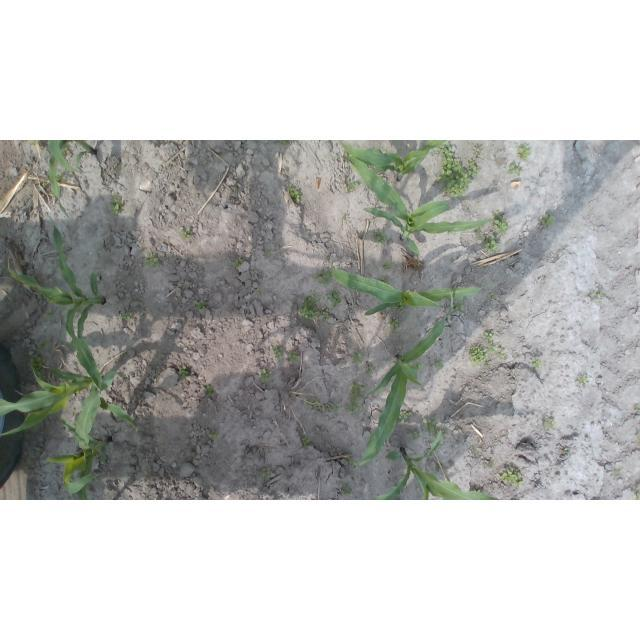Maize: (351, 289, 452, 465), (6, 226, 107, 392), (341, 153, 496, 255), (0, 365, 140, 437), (371, 429, 502, 500), (329, 262, 483, 315), (40, 416, 112, 500), (46, 140, 97, 220), (340, 140, 449, 176)
Weeds: (434, 141, 482, 198), (344, 381, 365, 412), (298, 293, 322, 319), (28, 355, 49, 381), (499, 468, 523, 488), (468, 346, 488, 367), (480, 235, 500, 254), (492, 212, 509, 233), (313, 268, 332, 285), (424, 416, 439, 437), (111, 193, 124, 216), (144, 252, 161, 268), (517, 142, 531, 160), (287, 187, 301, 205), (272, 345, 285, 364), (328, 289, 341, 308), (340, 179, 358, 192), (372, 229, 387, 244), (507, 162, 522, 176), (396, 411, 413, 423), (304, 398, 321, 409), (258, 369, 272, 382), (324, 403, 341, 413), (452, 300, 465, 313), (388, 319, 401, 332), (576, 376, 589, 389), (542, 213, 554, 227), (532, 355, 544, 369), (178, 366, 189, 381), (288, 352, 301, 364), (543, 415, 554, 429), (590, 290, 607, 299), (55, 170, 67, 182), (352, 351, 363, 363), (484, 331, 495, 343), (431, 359, 444, 369), (180, 228, 191, 239), (203, 385, 213, 397), (343, 484, 353, 496), (410, 428, 420, 440), (43, 311, 53, 321), (121, 312, 131, 321), (195, 300, 205, 309), (262, 467, 271, 477), (303, 436, 312, 446), (634, 486, 640, 500), (232, 259, 244, 266), (322, 307, 329, 319), (364, 368, 373, 377), (264, 248, 273, 257), (40, 340, 49, 349), (498, 349, 505, 360), (384, 260, 393, 268), (379, 276, 388, 284), (61, 146, 70, 154), (209, 432, 217, 441), (488, 344, 496, 352), (488, 293, 497, 299), (278, 140, 288, 145), (616, 467, 624, 473), (468, 488, 480, 492), (256, 288, 265, 293), (68, 380, 77, 384), (448, 231, 456, 235), (476, 229, 481, 235), (562, 449, 568, 453), (29, 141, 36, 144), (436, 466, 441, 470), (488, 464, 492, 468), (638, 434, 640, 441), (120, 164, 123, 168)
